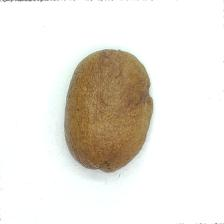NG: (143, 78, 156, 106)
